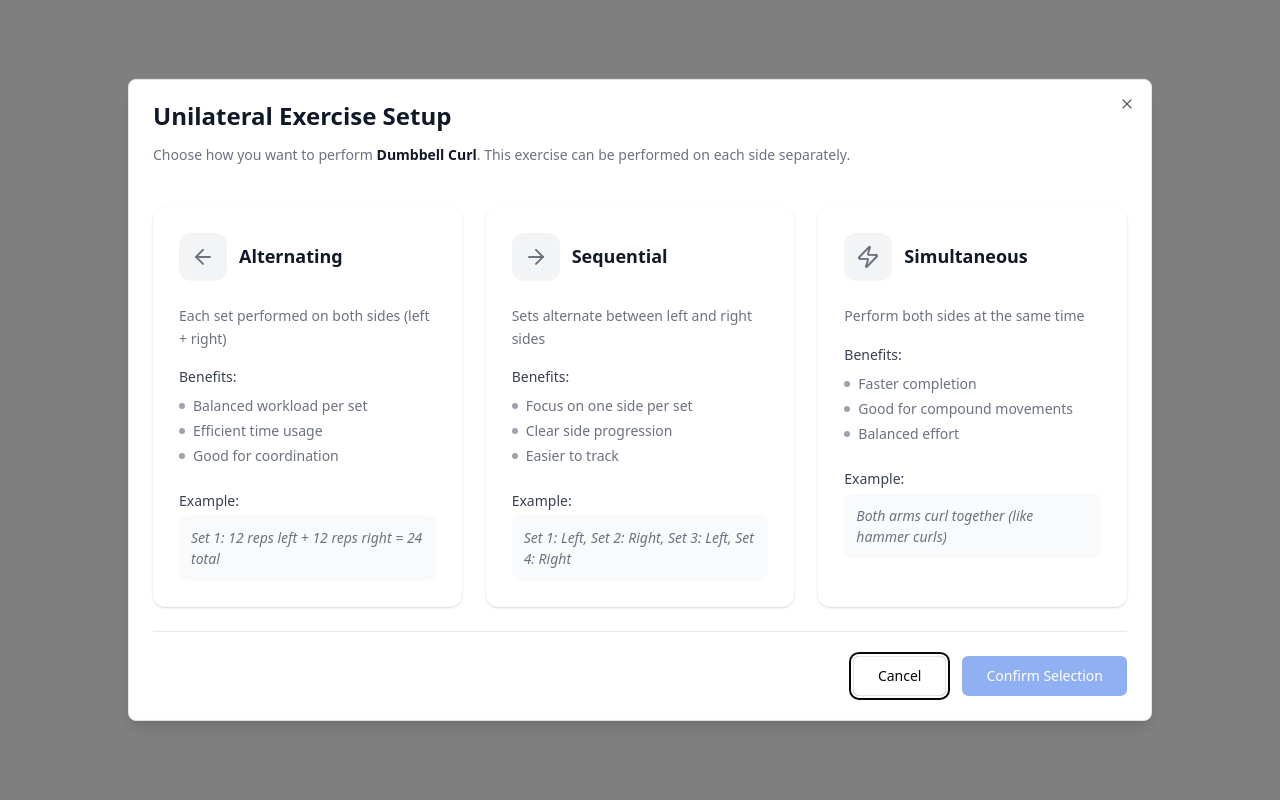
Test: UnilateralExerciseModal › should allow selecting a mode
Expected: the text "Alternating" is shown, [239,244,343,268]
Click the text "Alternating" at (307, 407), box [153,207,462,607]
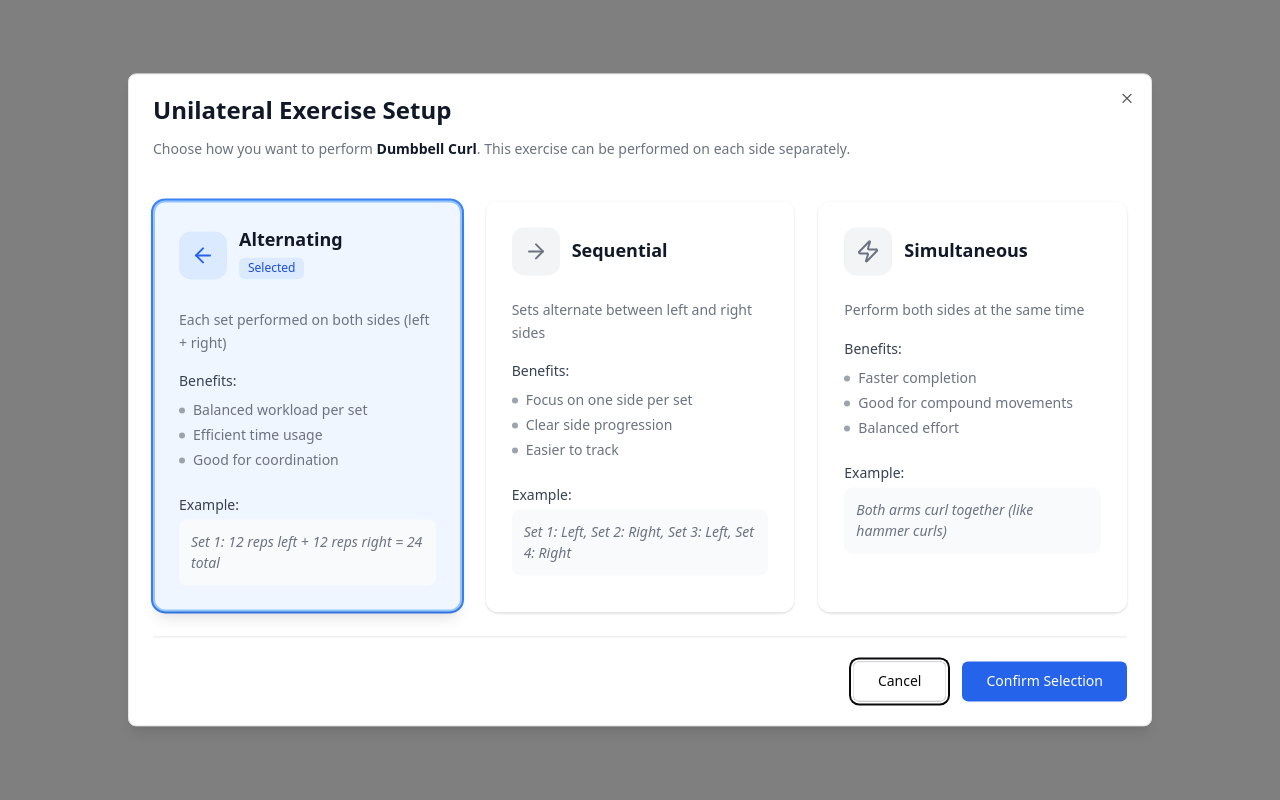
Expected: the text "Selected" is shown, [239,257,304,279]
